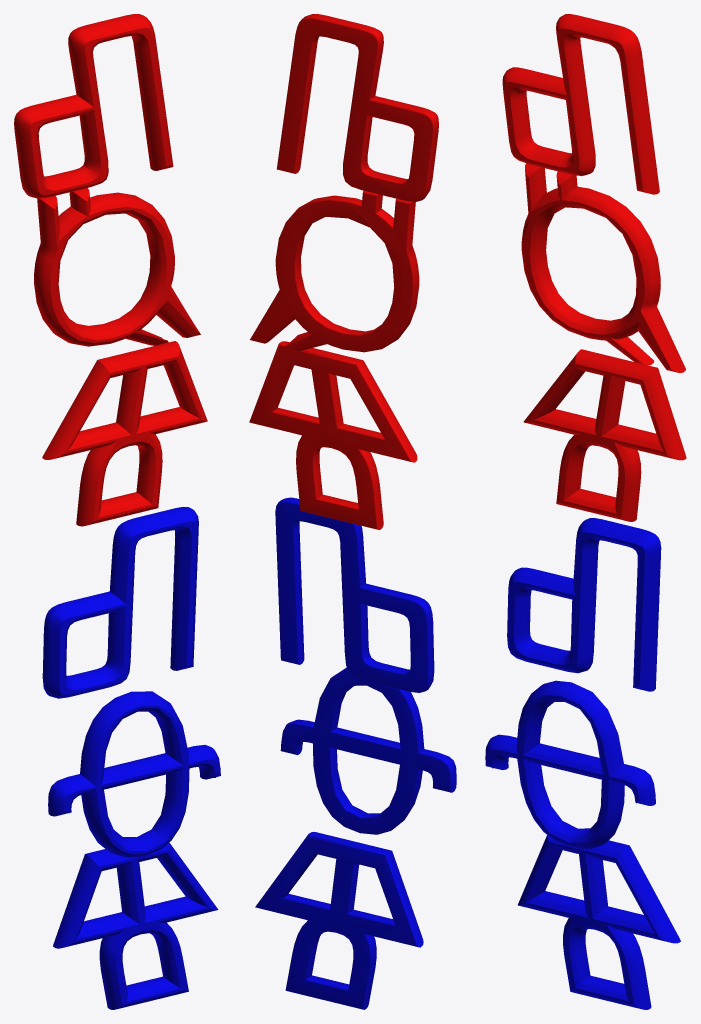
File: Text_sign_15.fbx
3 renders of one model, left to right at view 1: azimuth 30°, elevation 25°; view 2: azimuth 150°, elevation 25°; view 3: azimuth 330°, elevation 25°, orthographic. The views are drawn at different scales.
Visible parts, largest first — view 1: Text_sign_15; view 2: Text_sign_15; view 3: Text_sign_15.
Boxes of the visible parts, <box> form: Text_sign_15: <box>14,14,220,1009</box>; Text_sign_15: <box>249,14,456,1009</box>; Text_sign_15: <box>485,14,686,1009</box>.
Size of the model in its own units: 26.25 by 129 by 8.65.
